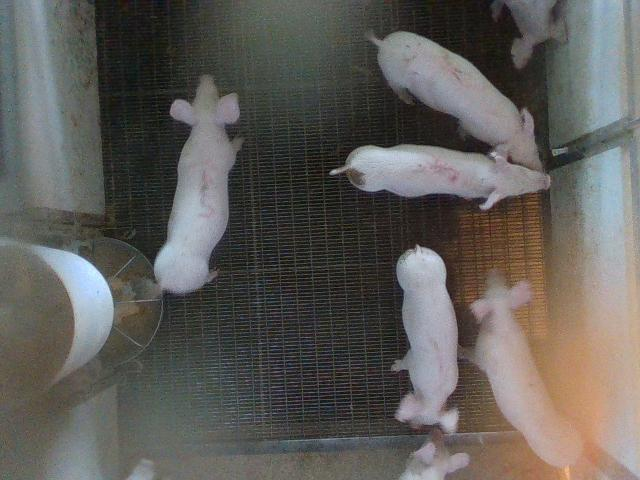pig-3: (154, 75, 244, 293)
pig-5: (330, 144, 551, 209)
